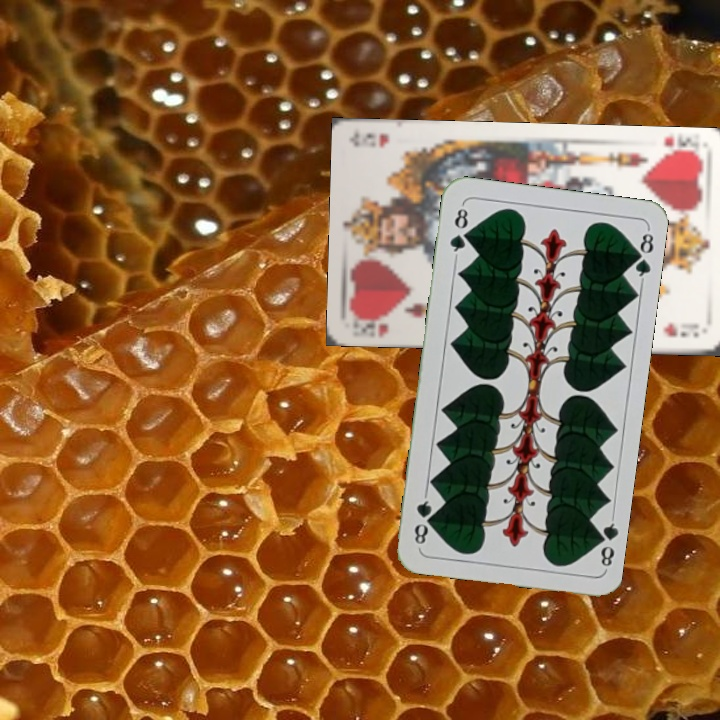G8: (590, 513, 620, 572), (445, 201, 471, 260)
HK: (654, 133, 705, 161), (351, 311, 391, 339)
